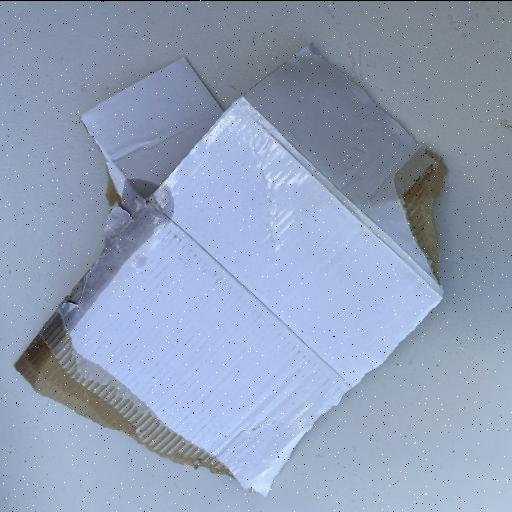Cardboard: (14, 41, 448, 495)
